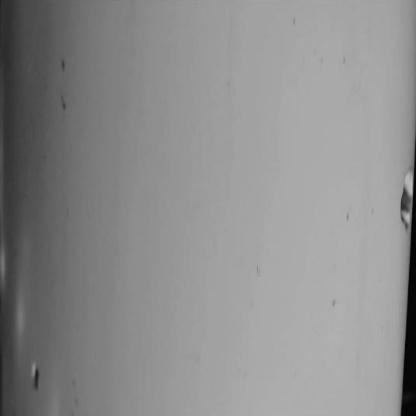kongdong: (377, 157, 416, 239), (18, 360, 66, 389)
